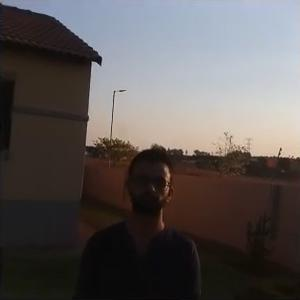follow: (68, 140, 202, 298)
